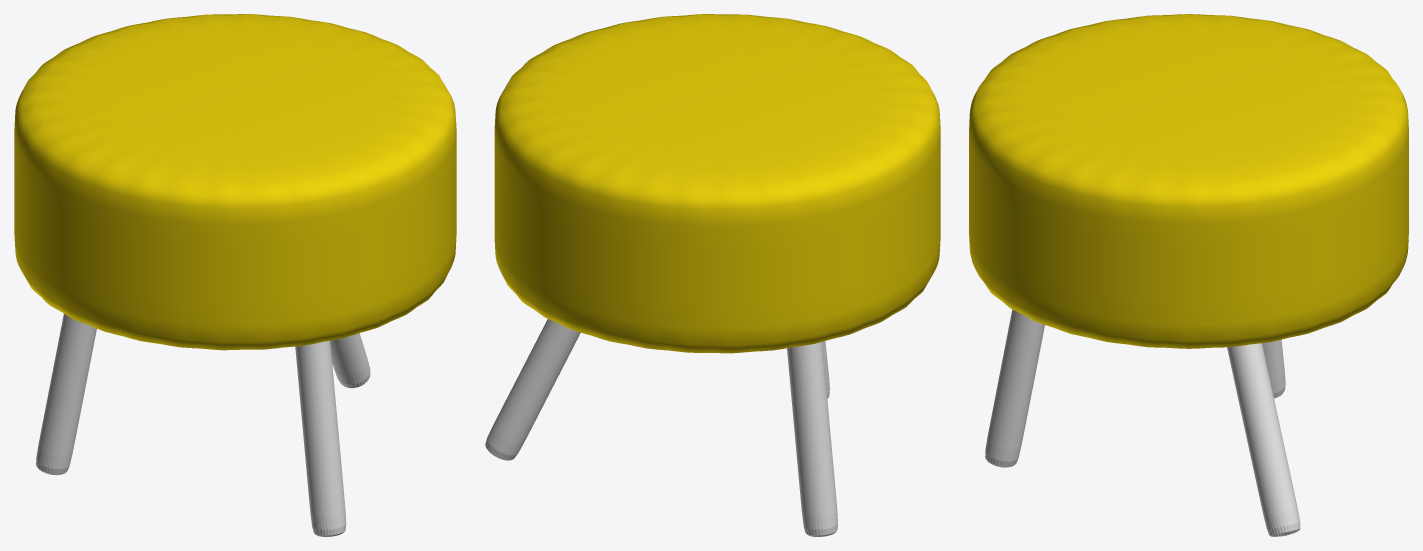
File: desk.gltf
The picture shows the model from 3 angles, left to right: view 1: azimuth 30°, elevation 25°; view 2: azimuth 150°, elevation 25°; view 3: azimuth 270°, elevation 25°; orthographic projection.
Visible parts, largest first — view 1: 円柱, 円柱.003, 円柱.002, 円柱.001; view 2: 円柱, 円柱.002, 円柱.001; view 3: 円柱, 円柱.001, 円柱.003, 円柱.002.
Boxes of the visible parts, x1,y1,x2,y2 form: 円柱: (14,14,456,350); 円柱.003: (295,340,346,536); 円柱.002: (36,314,96,475); 円柱.001: (330,333,370,388); 円柱: (494,14,940,353); 円柱.002: (787,342,837,536); 円柱.001: (485,319,580,460); 円柱: (969,14,1408,348); 円柱.001: (1227,343,1300,536); 円柱.003: (985,309,1044,467); 円柱.002: (1262,339,1285,398).
Bounding box in the file's own units: 1.99 × 1.85 × 1.99.
